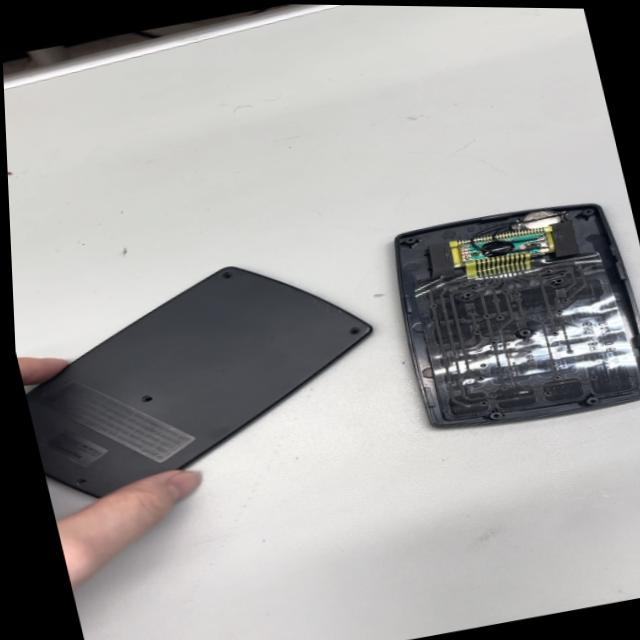back_cover: (10, 224, 406, 525)
front_panel: (364, 182, 640, 451)
